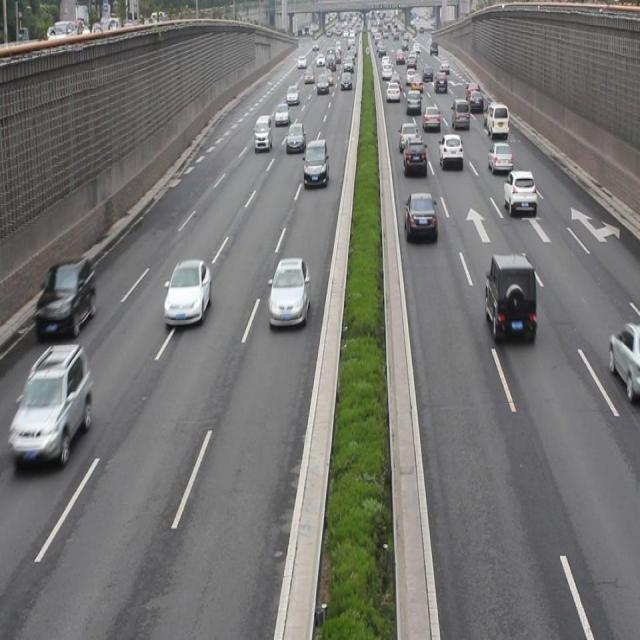car: (9, 345, 91, 464), (34, 256, 96, 340), (484, 252, 538, 342), (165, 258, 210, 328), (268, 254, 309, 328), (607, 321, 640, 398), (404, 190, 436, 243), (502, 170, 534, 216), (438, 133, 463, 167), (403, 138, 426, 174), (486, 142, 511, 174), (397, 120, 419, 152), (451, 98, 470, 130), (285, 120, 305, 150), (422, 105, 440, 130), (274, 103, 288, 125)
truck: (304, 138, 328, 188), (486, 103, 509, 138), (254, 114, 272, 153)
